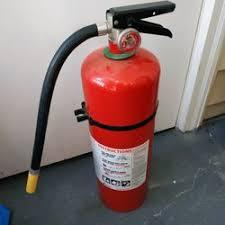floor-kept: (18, 1, 191, 218)
